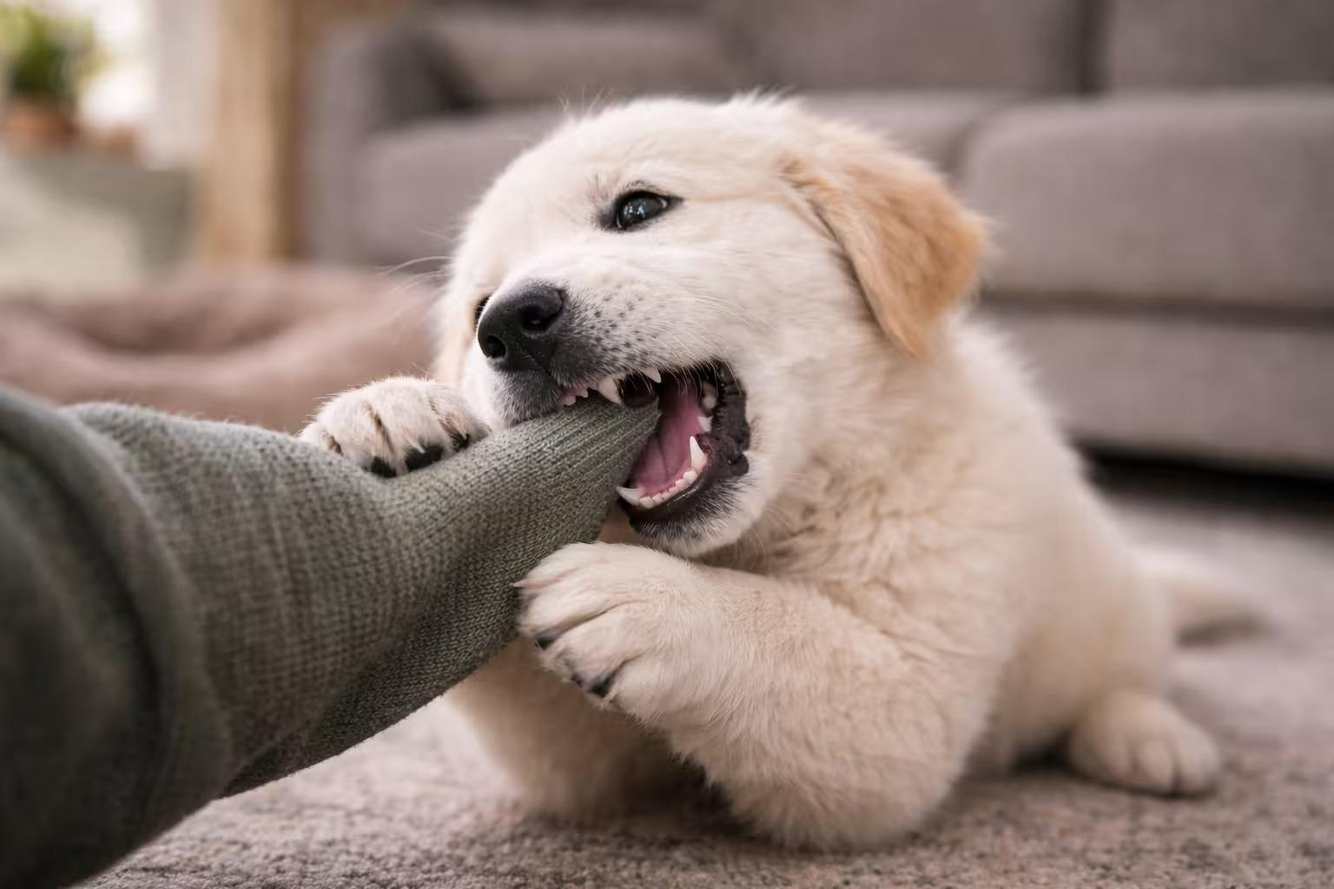puppy-dog: (293, 84, 1231, 853)
